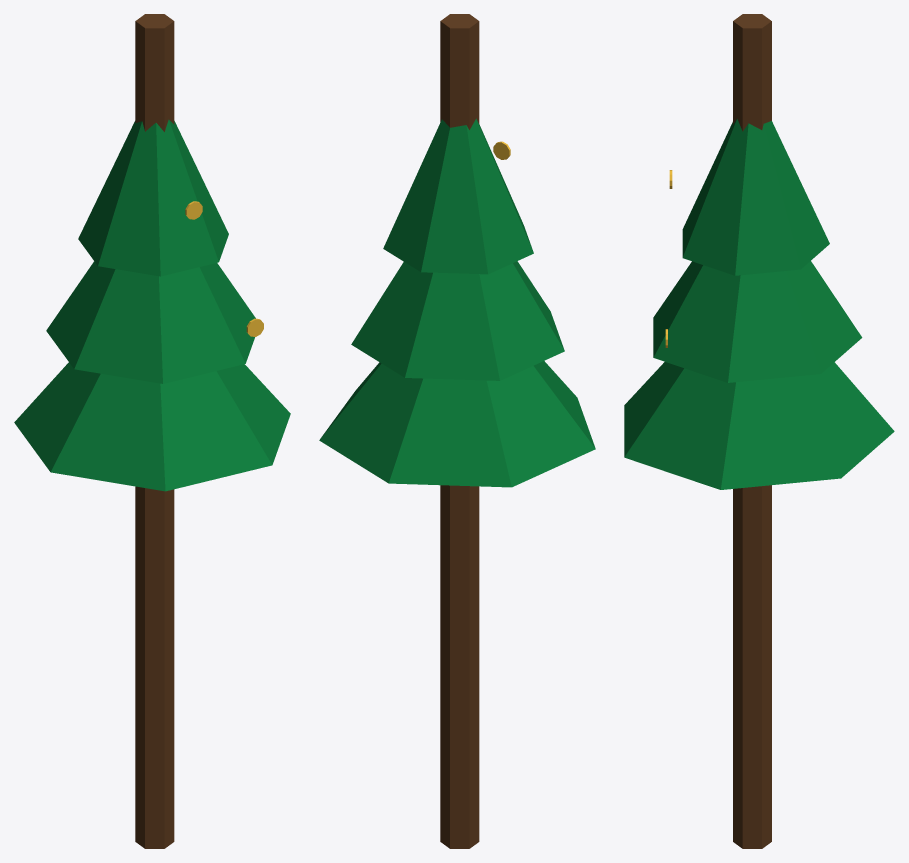
File: Prop_OR_LedgerTree_17.glb
3 renders of one model, left to right at view 1: azimuth 30°, elevation 25°; view 2: azimuth 150°, elevation 25°; view 3: azimuth 270°, elevation 25°, orthographic.
Visible parts, largest first — view 1: Prop_OR_LedgerTree_17; view 2: Prop_OR_LedgerTree_17; view 3: Prop_OR_LedgerTree_17.
Boxes of the visible parts, <box> form: Prop_OR_LedgerTree_17: <box>14,14,290,848</box>; Prop_OR_LedgerTree_17: <box>319,14,595,848</box>; Prop_OR_LedgerTree_17: <box>624,14,894,848</box>.
Bounding box in the file's own units: 2.14 × 7 × 2.09.
